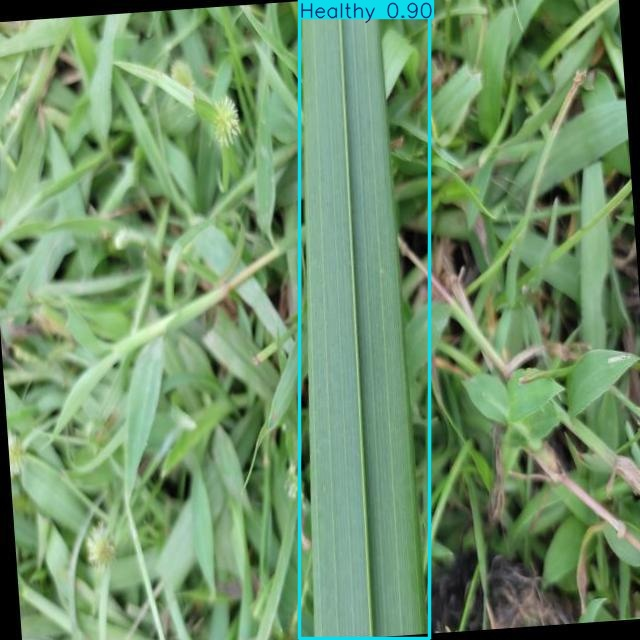Healthy: (299, 0, 429, 638)
